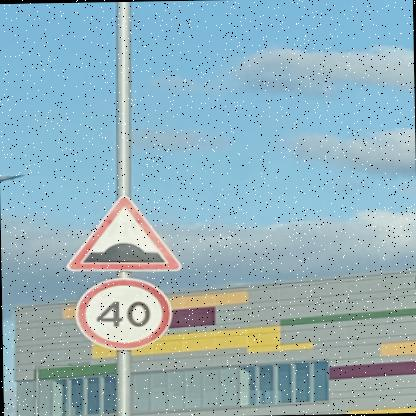speedlimit: (72, 276, 170, 350)
